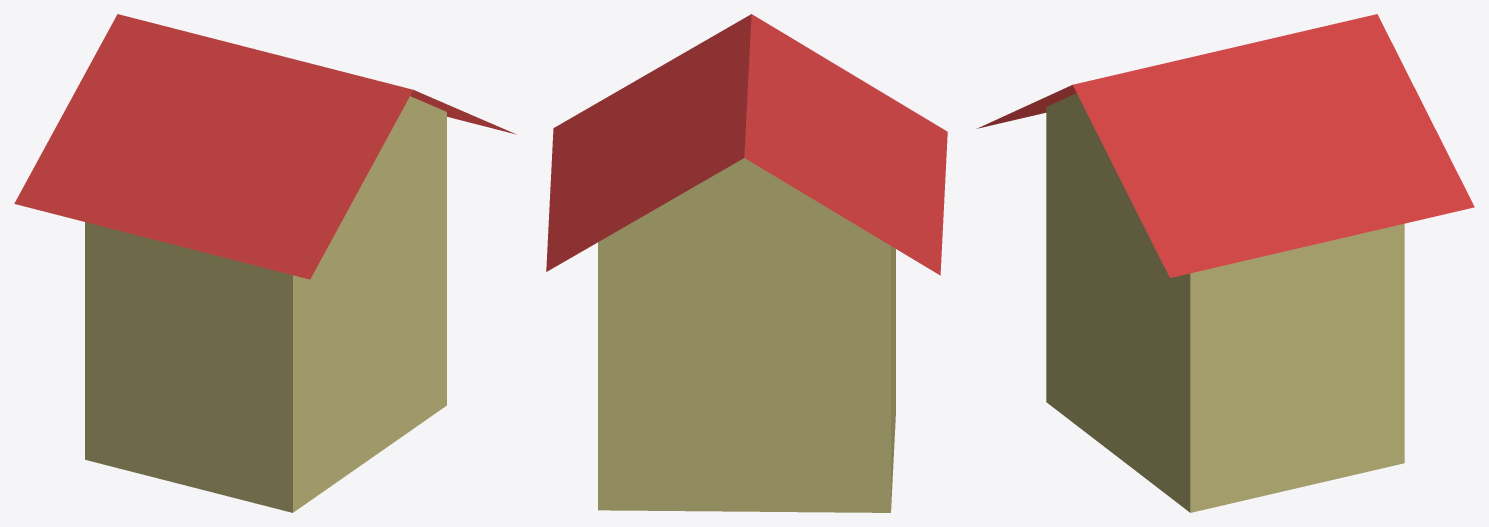
The picture shows the model from 3 angles, left to right: view 1: azimuth 30°, elevation 25°; view 2: azimuth 150°, elevation 25°; view 3: azimuth 270°, elevation 25°; orthographic projection. The views are drawn at different scales.
Bounding box in the file's own units: 15.1 × 14.47 × 12.26.
